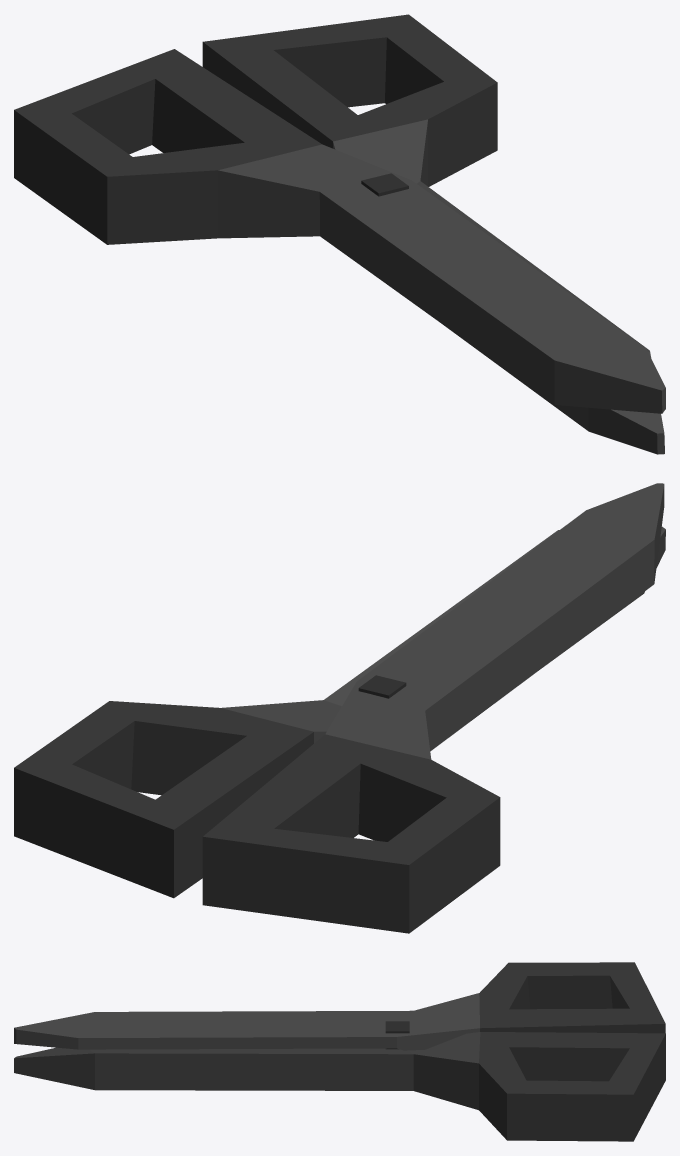
The model's file is scissors.fbx.
3 views of the same model, one above another, from view 1: azimuth 30°, elevation 25°; view 2: azimuth 150°, elevation 25°; view 3: azimuth 270°, elevation 25° (orthographic). The views are drawn at different scales.
Parts seen in each view (by area): view 1: scissors_left, scissors_right; view 2: scissors_left, scissors_right; view 3: scissors_right, scissors_left.
Part boxes in pixels (bbox=[...]): scissors_left: bbox=[14, 49, 665, 413]; scissors_right: bbox=[202, 14, 664, 454]; scissors_left: bbox=[202, 483, 664, 933]; scissors_right: bbox=[14, 526, 665, 898]; scissors_right: bbox=[14, 1032, 665, 1141]; scissors_left: bbox=[14, 962, 665, 1050].
Size of the model in its own units: 14.92 by 2.66 by 31.06.
